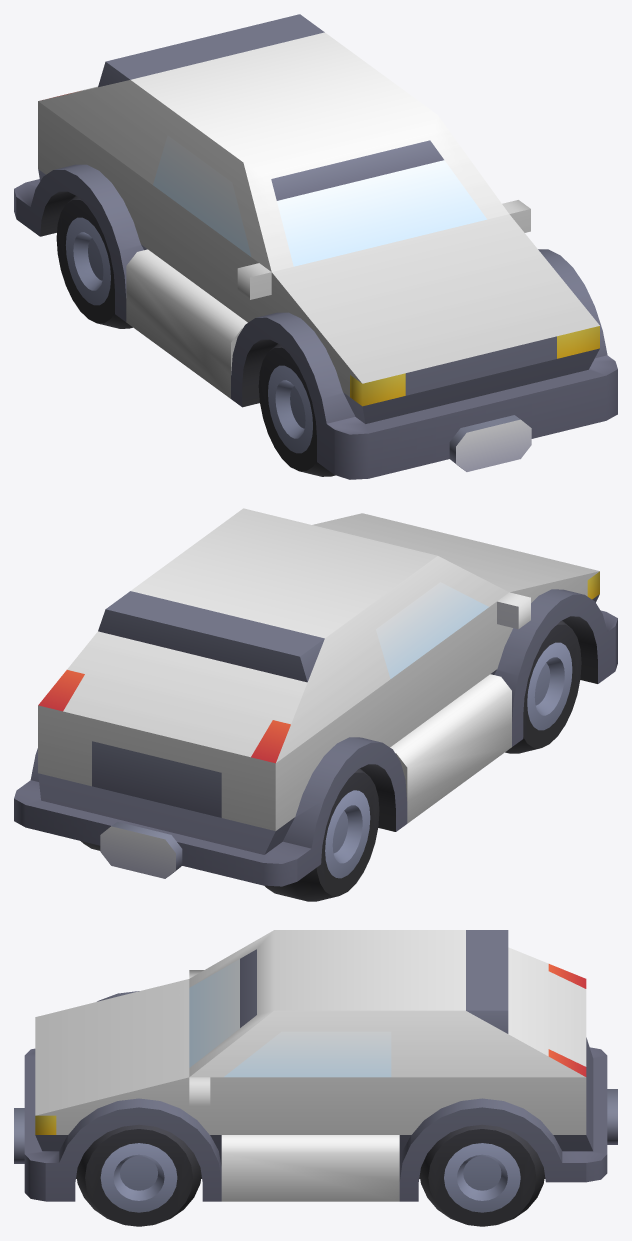
Rendered from car_hot_hatch.glb.
The picture shows the model from 3 angles, top to bottom: view 1: azimuth 30°, elevation 25°; view 2: azimuth 150°, elevation 25°; view 3: azimuth 270°, elevation 25°; orthographic projection. The views are drawn at different scales.
Parts seen in each view (by area): view 1: body, wheel-back-right, wheel-front-right; view 2: body, wheel-back-right, wheel-front-right; view 3: body, wheel-front-left, wheel-back-left.
Boxes of the visible parts, x1=… form: body: x1=14, y1=14, x2=617, y2=479; wheel-back-right: x1=56, y1=196, x2=132, y2=328; wheel-front-right: x1=258, y1=343, x2=335, y2=476; body: x1=14, y1=508, x2=617, y2=886; wheel-back-right: x1=264, y1=768, x2=379, y2=901; wheel-front-right: x1=505, y1=620, x2=581, y2=753; body: x1=14, y1=930, x2=617, y2=1201; wheel-front-left: x1=76, y1=1124, x2=201, y2=1226; wheel-back-left: x1=419, y1=1124, x2=544, y2=1226.
Size of the model in its own units: 1.3 by 1.1 by 2.85.
2 materials, 2 textured.
